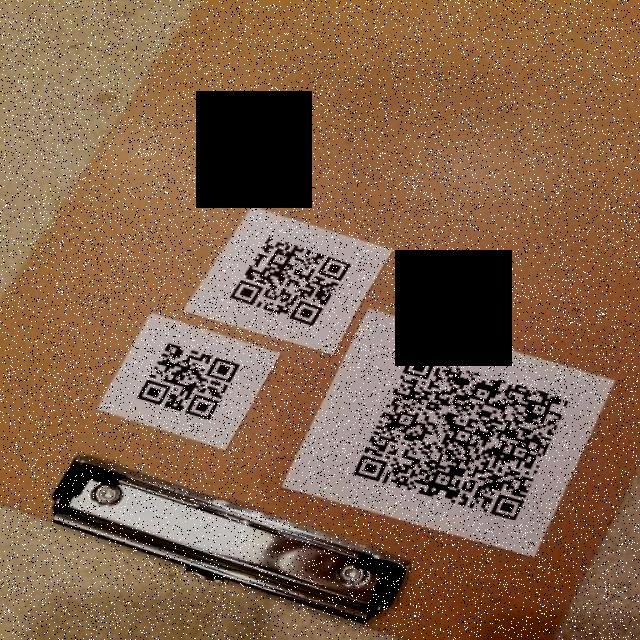QR_CODE: (345, 344, 580, 535), (221, 221, 355, 334), (124, 336, 246, 426)
